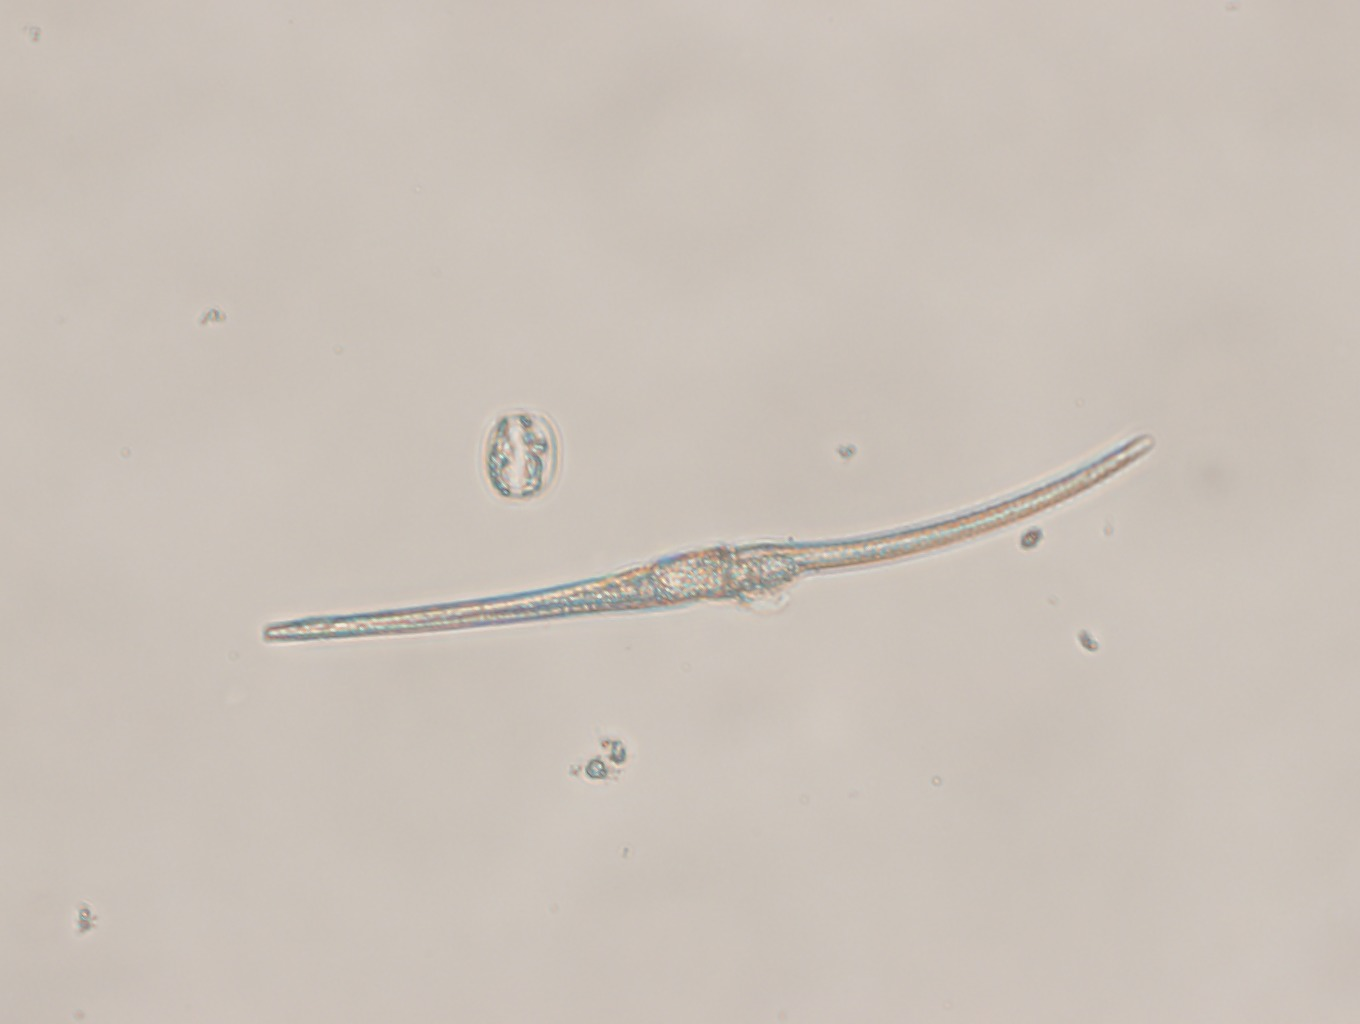ceratium fusus: (261, 431, 1158, 643)
